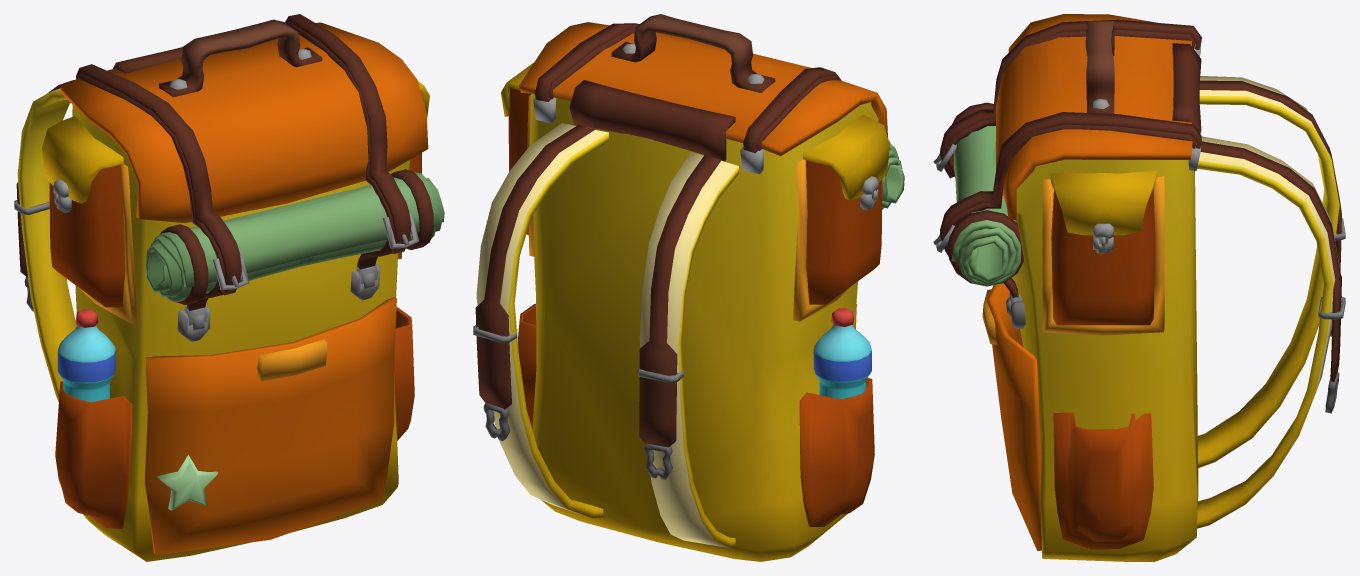
File: SM_BackPack_34.fbx
3 renders of one model, left to right at view 1: azimuth 30°, elevation 25°; view 2: azimuth 150°, elevation 25°; view 3: azimuth 270°, elevation 25°, orthographic. The views are drawn at different scales.
Parts seen in each view (by area): view 1: SM_BackPack_34; view 2: SM_BackPack_34; view 3: SM_BackPack_34.
Part boxes in pixels (box(x1,y1,x2,y2)): SM_BackPack_34: box(14, 14, 444, 561); SM_BackPack_34: box(473, 14, 904, 561); SM_BackPack_34: box(933, 14, 1345, 561).
Size of the model in its own units: 121 by 156 by 123.
